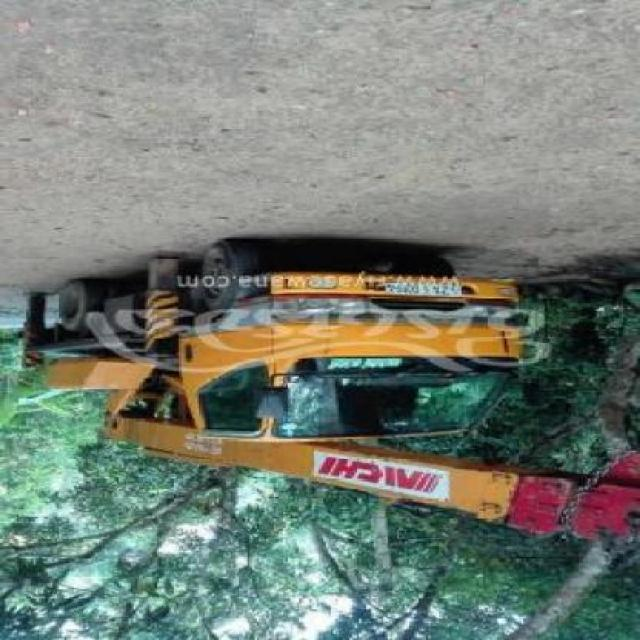truck: (36, 243, 640, 543)
